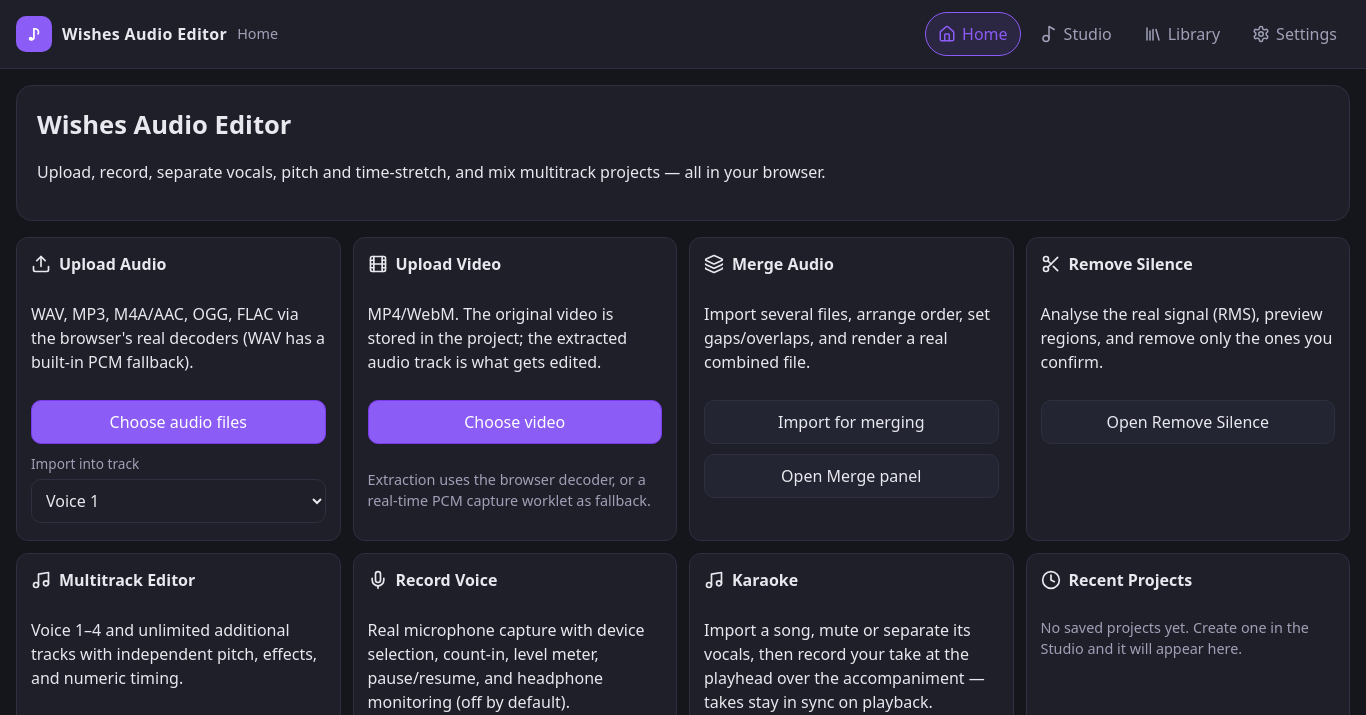
Test: App › renders Wishes Audio Editor and navigates
Expected: the heading "Wishes Audio Editor" is shown, [37,107,292,142]
Expected: the tab "Home" is shown, [925,12,1021,56]
Click the tab "Library" at (1182, 34), box [1131,12,1233,56]
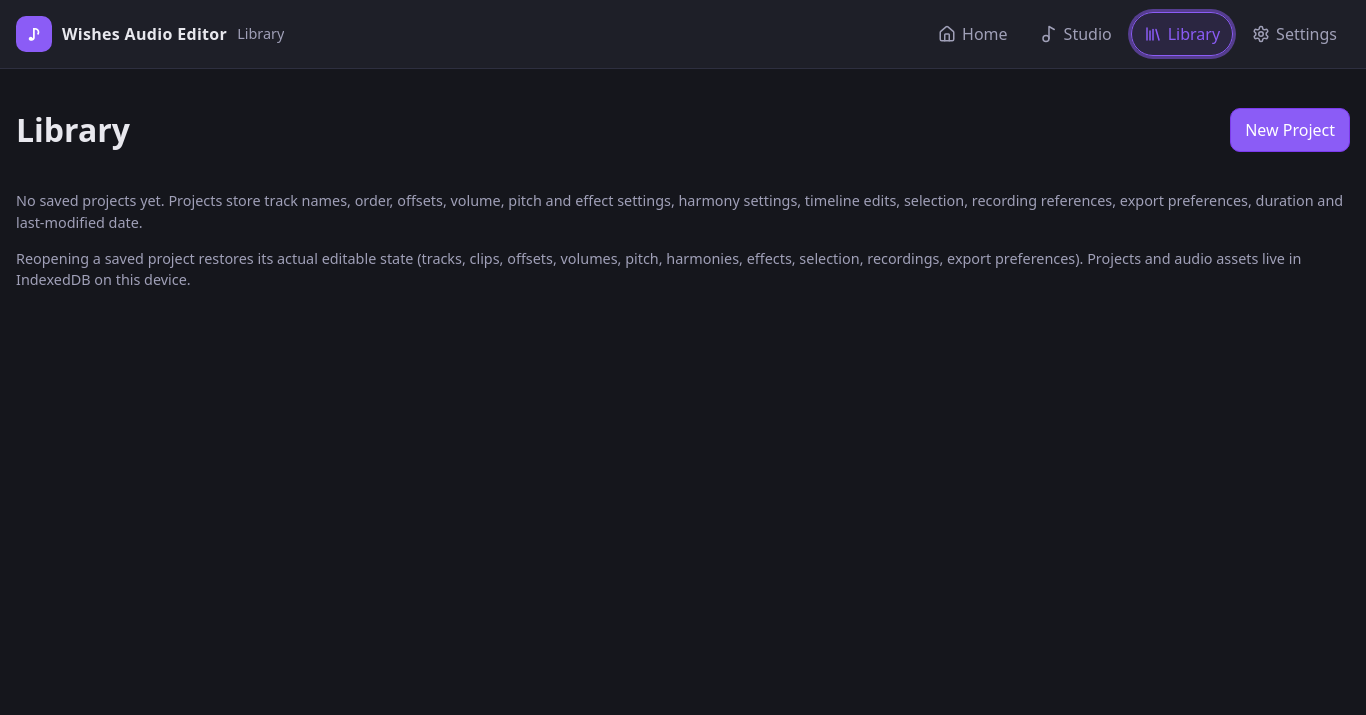
Expected: the heading "Library" is shown, [16,106,130,154]
Click the tab "Settings" at (1295, 34), box [1239,12,1350,56]
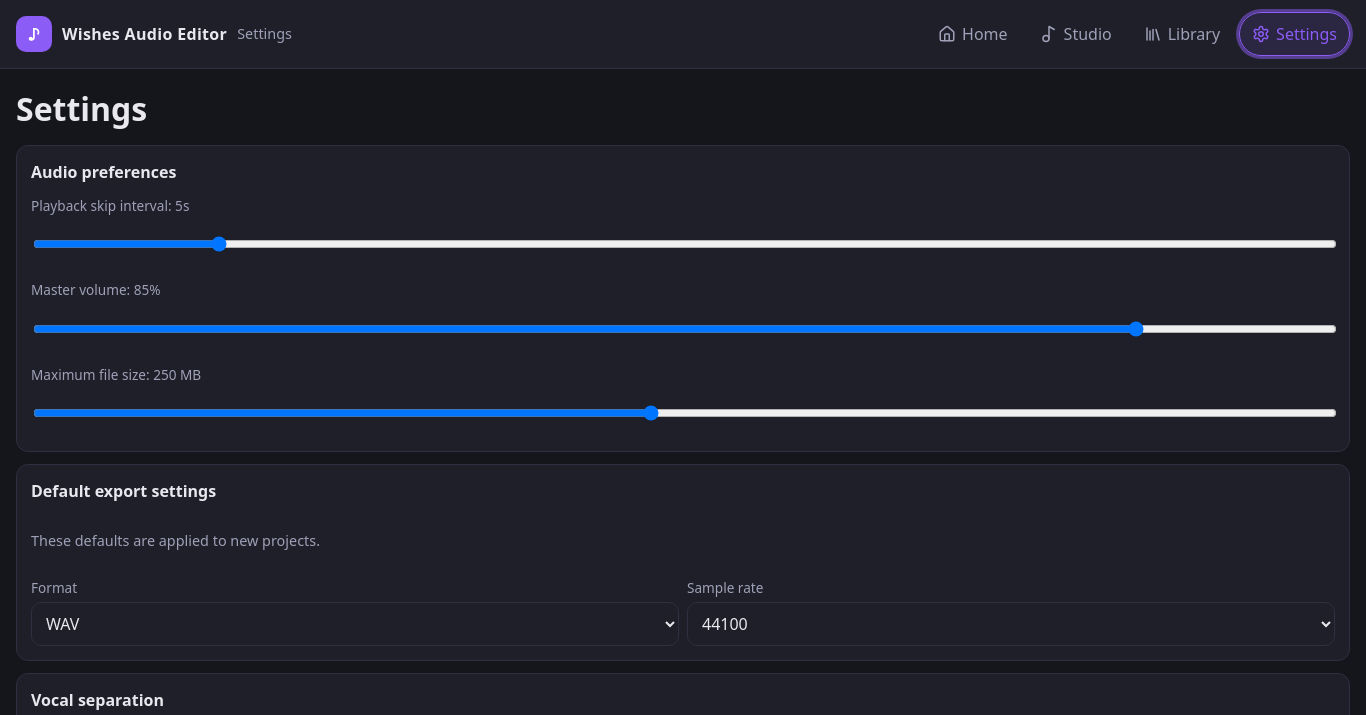
# Essential transport labels appear in Studio
Click the tab "Studio" at (1076, 34), box [1027,12,1125,56]
(page scrolled)
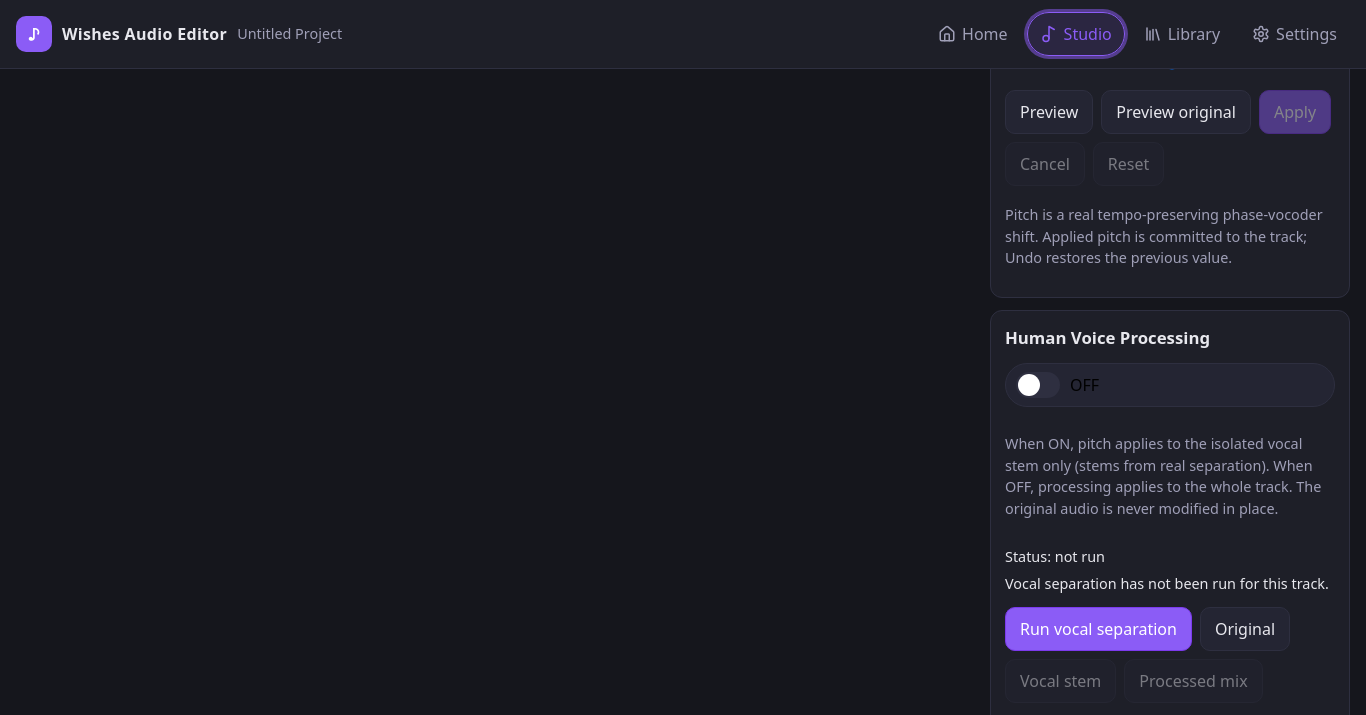
Expected: the switch named "Human Voice Processing" is shown, [1005,362,1335,406]
